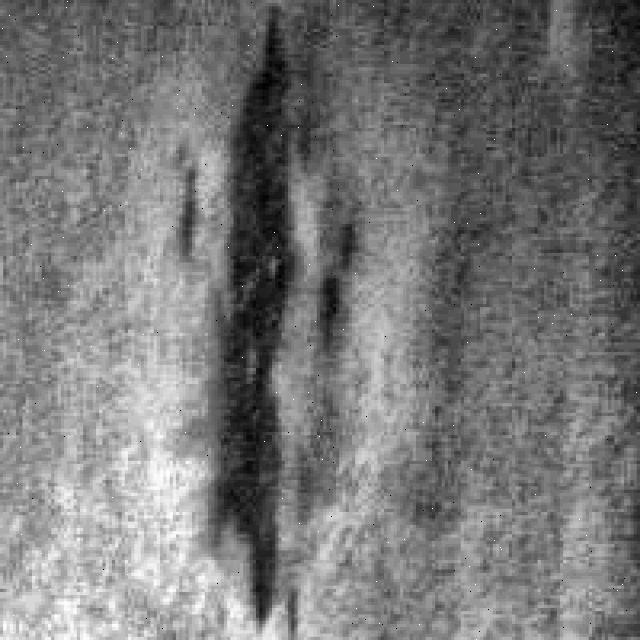Patches: (170, 0, 340, 627)
